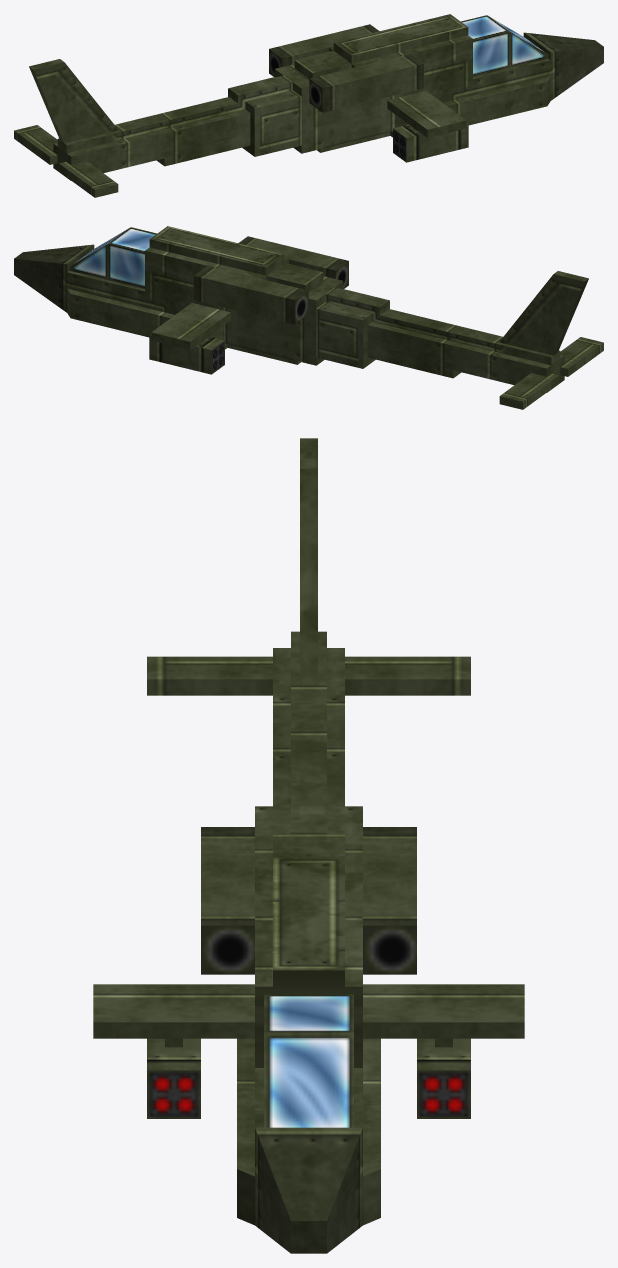
File: helicopter0.obj
3 views of the same model, one above another, from view 1: azimuth 30°, elevation 25°; view 2: azimuth 150°, elevation 25°; view 3: azimuth 270°, elevation 25° (orthographic). The views are drawn at different scales.
Visible parts, largest first — view 1: HELCOPTER; view 2: HELCOPTER; view 3: HELCOPTER.
Part boxes in pixels (x1,y1,x2,y2): HELCOPTER: (14, 14, 603, 197); HELCOPTER: (14, 226, 603, 409); HELCOPTER: (93, 438, 524, 1253).
Size of the model in its own units: 4.56 by 1.12 by 1.5.
